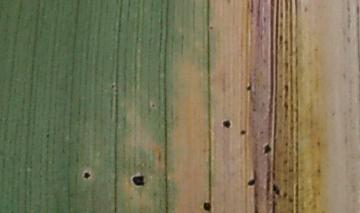tarspot: (127, 173, 150, 188), (79, 167, 93, 182), (261, 141, 275, 156), (201, 199, 215, 213), (245, 175, 258, 188), (221, 118, 233, 131), (243, 82, 255, 95), (237, 128, 250, 138)
